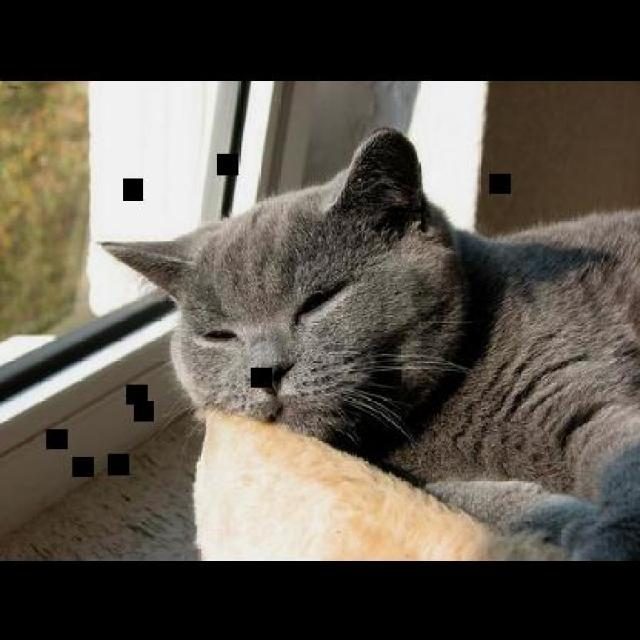unauthorized: (96, 124, 638, 558)
